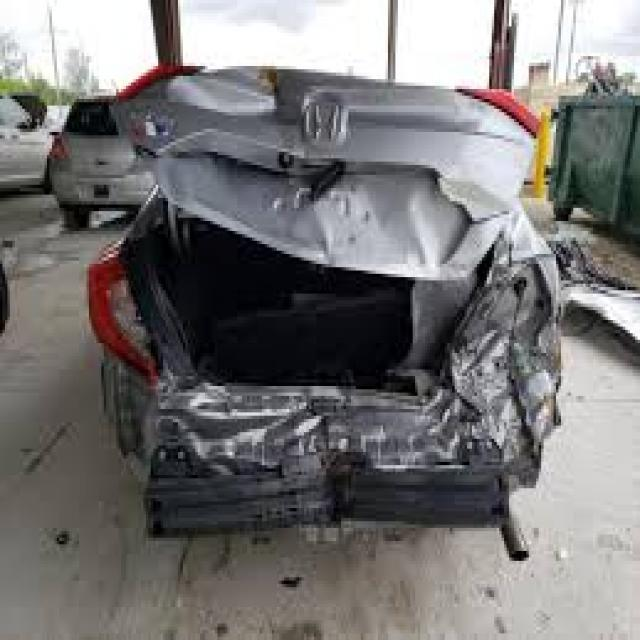damaged-trunk: (132, 66, 538, 299)
